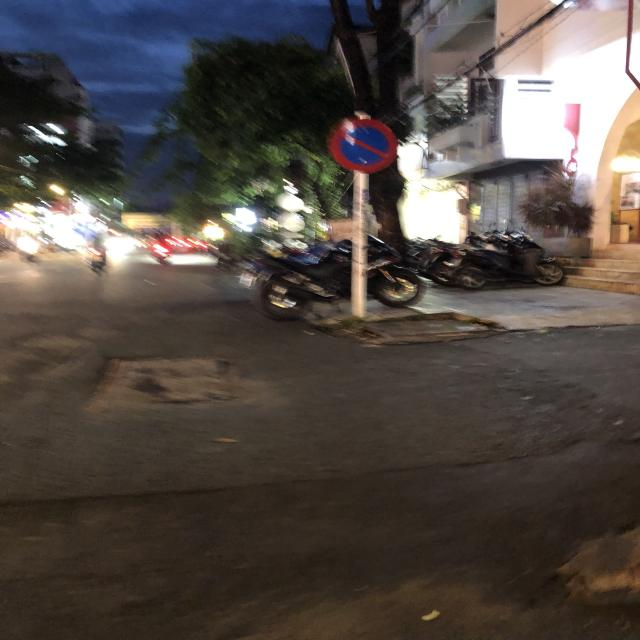Bien bao cam do xe: (326, 114, 401, 178)
